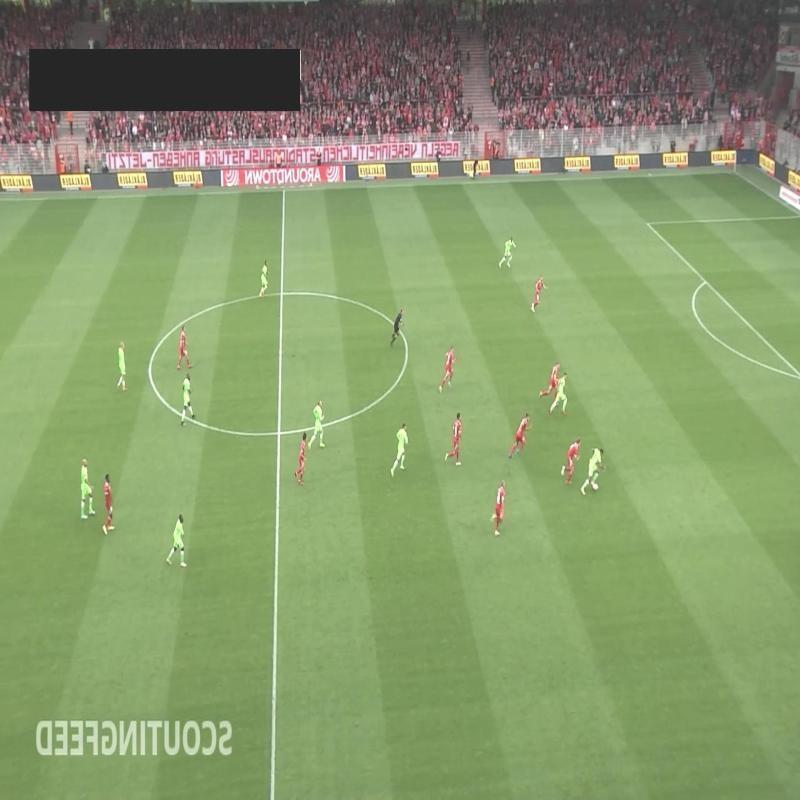1: (725, 164, 739, 178)
10: (696, 272, 710, 286)
13: (277, 182, 291, 196)
14: (274, 286, 288, 299)
15: (271, 424, 285, 438)
2: (789, 207, 800, 221)
9: (640, 214, 654, 228)
c: (398, 338, 415, 354), (142, 356, 157, 370)
